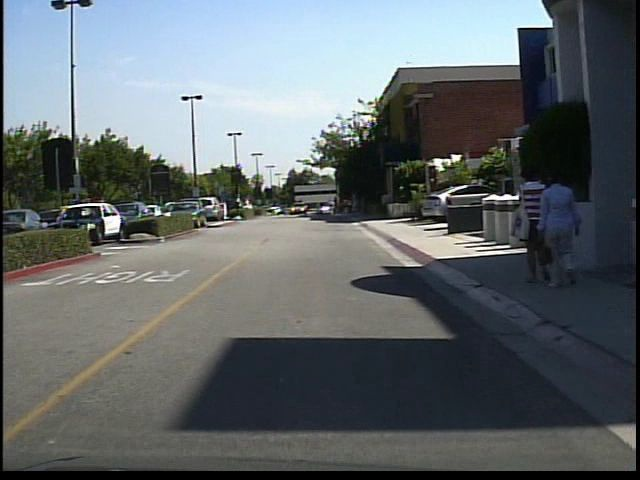person: (537, 165, 586, 289), (515, 162, 548, 288), (240, 192, 256, 220), (327, 195, 339, 221)
